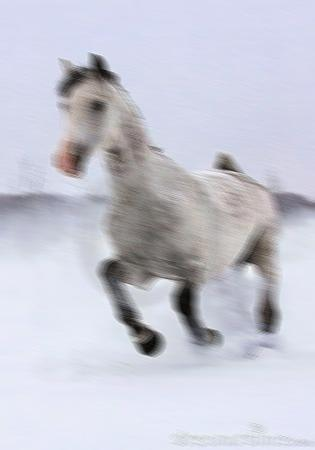horse: (53, 52, 282, 356)
